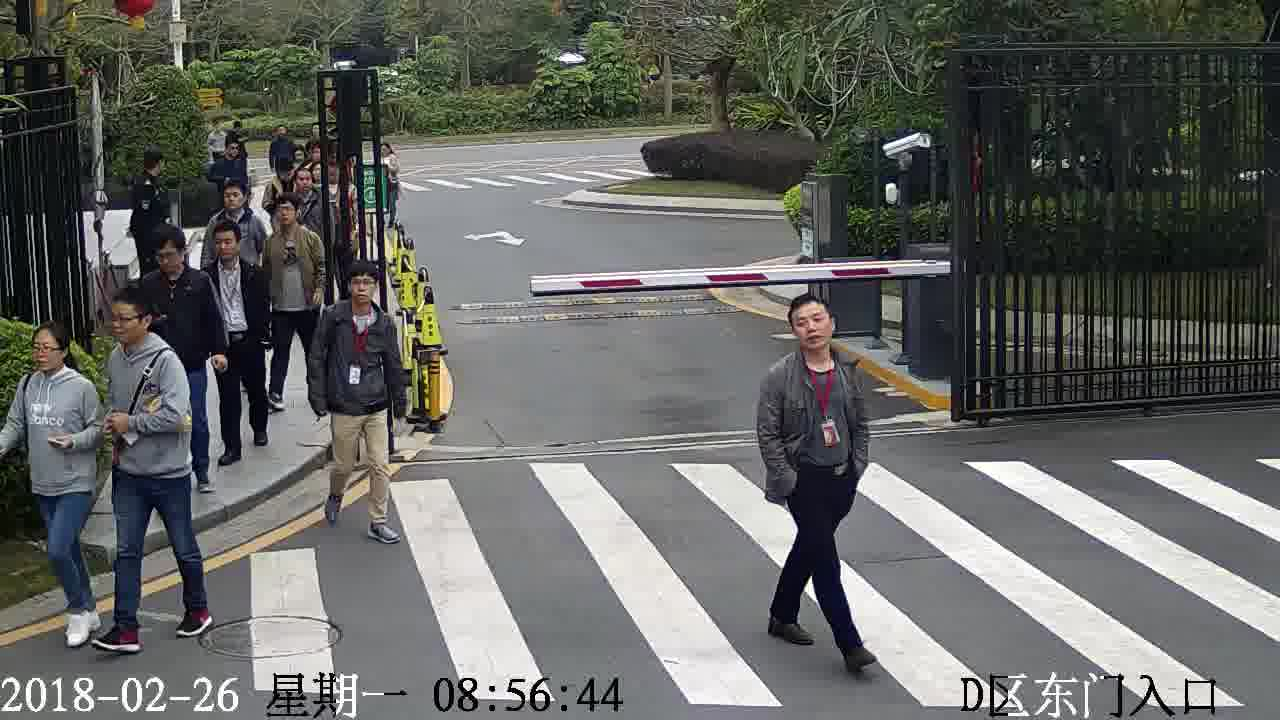face: (789, 303, 836, 350), (25, 328, 70, 373), (107, 298, 146, 343), (342, 270, 376, 308), (152, 241, 183, 276), (216, 227, 240, 261)
person: (760, 295, 867, 393), (104, 284, 182, 374), (15, 320, 94, 408), (317, 258, 401, 335), (142, 226, 210, 295), (202, 219, 262, 286), (267, 194, 322, 253), (211, 179, 267, 227), (132, 146, 169, 195), (212, 134, 252, 173), (263, 154, 303, 193), (297, 138, 333, 176), (203, 112, 235, 143), (268, 120, 297, 148)
